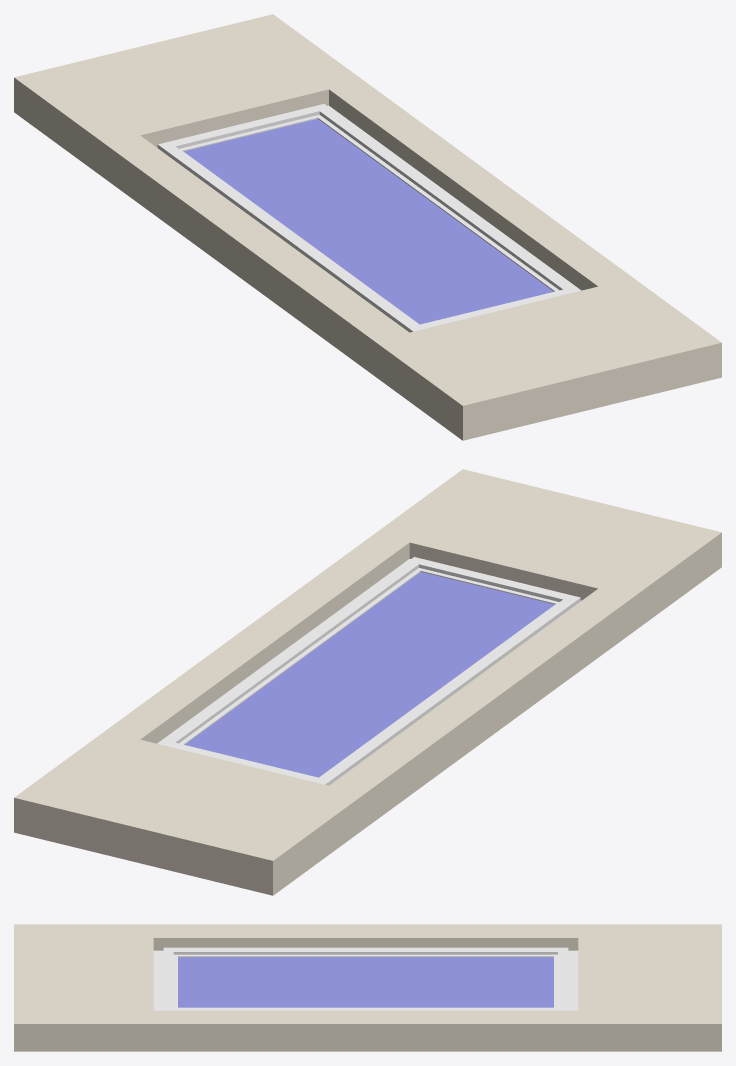
Rendered from Window01.gltf.
3 renders of one model, top to bottom at view 1: azimuth 30°, elevation 25°; view 2: azimuth 150°, elevation 25°; view 3: azimuth 270°, elevation 25°, orthographic. The views are drawn at different scales.
Visible parts, largest first — view 1: SIP, Glass, WindowFrame, WindowSeal; view 2: SIP, Glass, WindowFrame, WindowSeal; view 3: SIP, Glass, WindowFrame, WindowSeal.
Part boxes in pixels (<box>): SIP: <box>14,14,721,440</box>; Glass: <box>183,119,553,324</box>; WindowFrame: <box>157,104,581,332</box>; WindowSeal: <box>179,114,559,324</box>; SIP: <box>14,469,721,895</box>; Glass: <box>185,572,554,777</box>; WindowFrame: <box>157,557,581,785</box>; WindowSeal: <box>179,568,559,777</box>; SIP: <box>14,924,721,1051</box>; Glass: <box>178,957,553,1007</box>; WindowFrame: <box>153,947,578,1010</box>; WindowSeal: <box>173,954,557,1007</box>.
Bounding box in the file's own units: 1.17 × 0.15 × 3.5.
